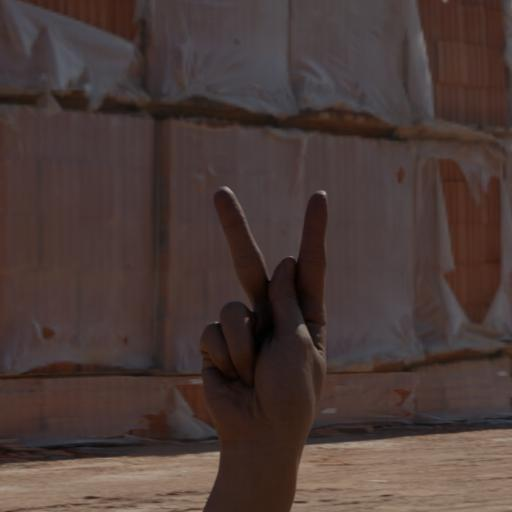K: (168, 159, 348, 472)
